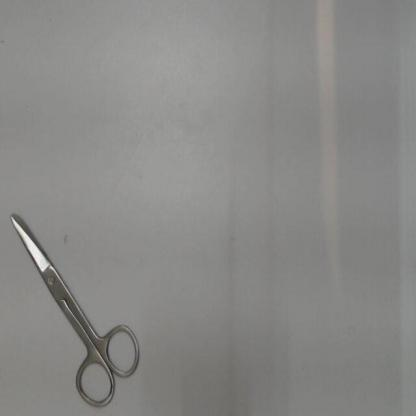Dressing Scissors: (4, 201, 150, 413)
